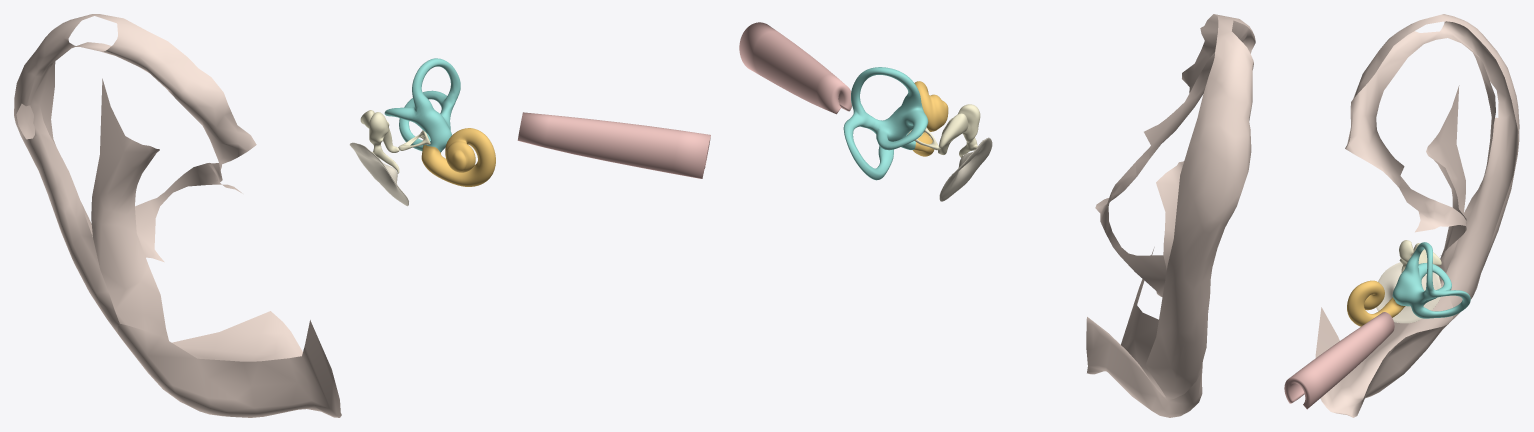
Rendered from ear.glb.
3 renders of one model, left to right at view 1: azimuth 30°, elevation 25°; view 2: azimuth 150°, elevation 25°; view 3: azimuth 270°, elevation 25°, orthographic. The views are drawn at different scales.
Parts seen in each view (by area): view 1: Helix, Lobule of auricle, Antihelix, Auditory tube, Vestibule, Cochlea, Concha of auricle, Tympanic membrane, Malleus; view 2: Helix, Lobule of auricle, Auditory tube, Vestibule, Concha of auricle, Antihelix, Cochlea, Tympanic membrane, Malleus, Incus; view 3: Helix, Lobule of auricle, Auditory tube, Vestibule, Antihelix, Concha of auricle, Cochlea, Tympanic membrane, Malleus.
Part boxes in pixels (box(x1,y1,x2,y2)): Helix: box(14, 14, 256, 336); Lobule of auricle: box(117, 311, 341, 417); Antihelix: box(91, 78, 168, 340); Auditory tube: box(517, 112, 710, 178); Vestibule: box(384, 58, 460, 152); Cochlea: box(421, 128, 495, 186); Concha of auricle: box(135, 163, 242, 262); Tympanic membrane: box(349, 142, 408, 206); Malleus: box(369, 112, 399, 173); Helix: box(1144, 14, 1255, 398); Lobule of auricle: box(1086, 247, 1202, 417); Auditory tube: box(739, 22, 851, 114); Vestibule: box(843, 67, 928, 180); Concha of auricle: box(1095, 146, 1166, 297); Antihelix: box(1156, 161, 1184, 269); Cochlea: box(912, 81, 948, 156); Tympanic membrane: box(939, 137, 992, 201); Malleus: box(958, 104, 980, 157); Incus: box(938, 113, 968, 154); Helix: box(1345, 14, 1519, 320); Lobule of auricle: box(1315, 283, 1452, 417); Auditory tube: box(1284, 312, 1394, 409); Vestibule: box(1392, 242, 1470, 318); Antihelix: box(1426, 85, 1465, 283); Concha of auricle: box(1399, 176, 1466, 255); Cochlea: box(1347, 280, 1405, 326); Tympanic membrane: box(1376, 262, 1441, 323); Malleus: box(1399, 240, 1413, 272).
Size of the model in its own units: 2.6 by 1.72 by 1.11.
